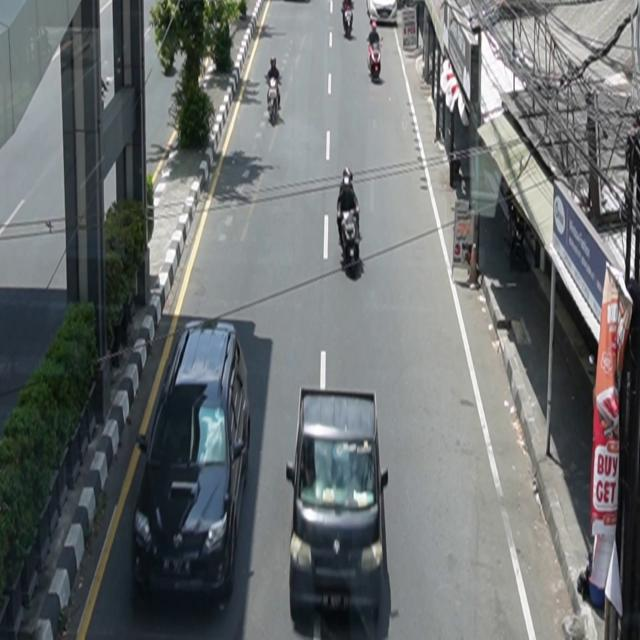car: (133, 318, 252, 605), (286, 387, 392, 639)
